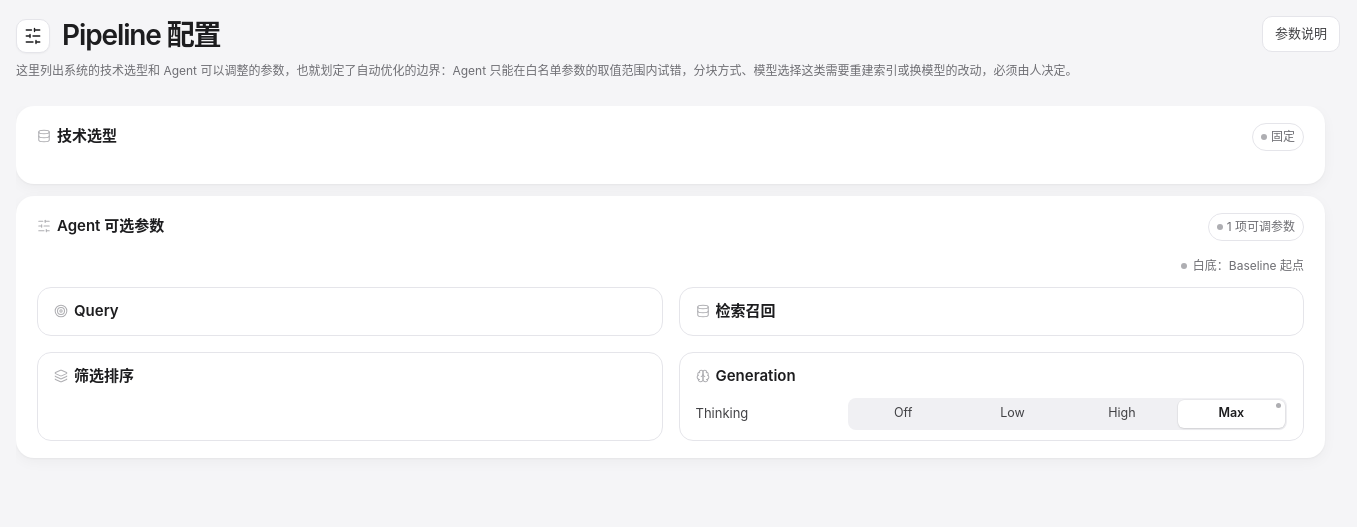
starts from saved Max Baseline without phantom changes (stale draft: false)
This screenshot has width=1357, height=527.
Expected: the radio button labelled "Max" is shown, [1178,400,1285,428]
Expected: the text "1 项已修改" is not shown
Click the radio button labelled "High".
click(1122, 414)  # box [1068,400,1176,428]
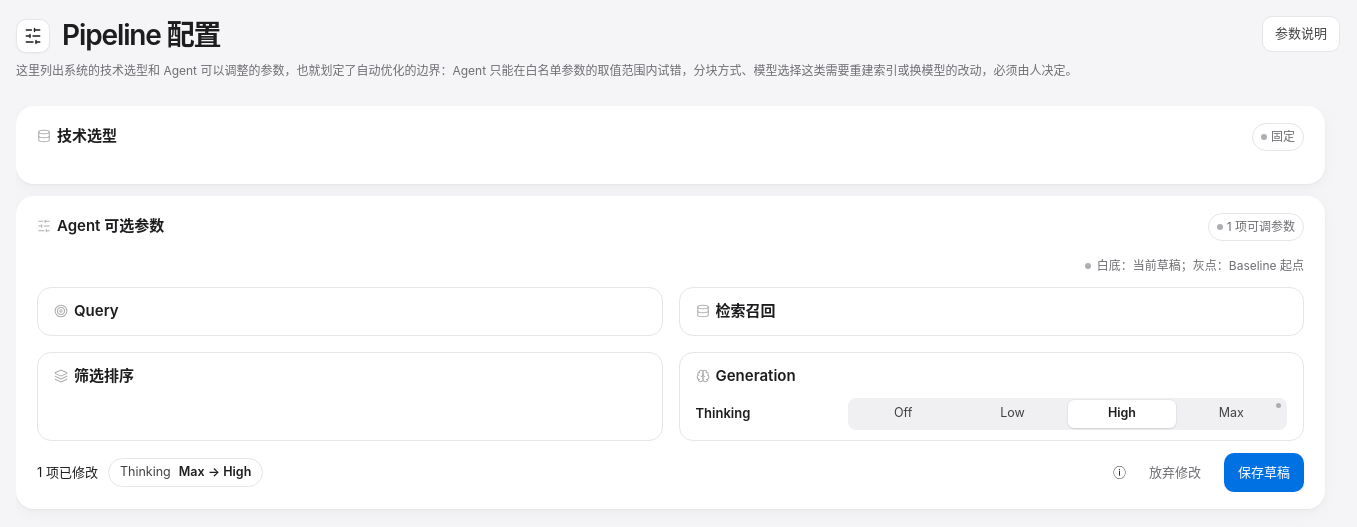
Now the text "1 项已修改" is shown, box [37,463,98,482]
Now the element showing "Thinking Max → High" is shown, box [108,458,263,487]
Click the button "放弃修改".
click(1175, 472)  # box [1136,454,1214,491]
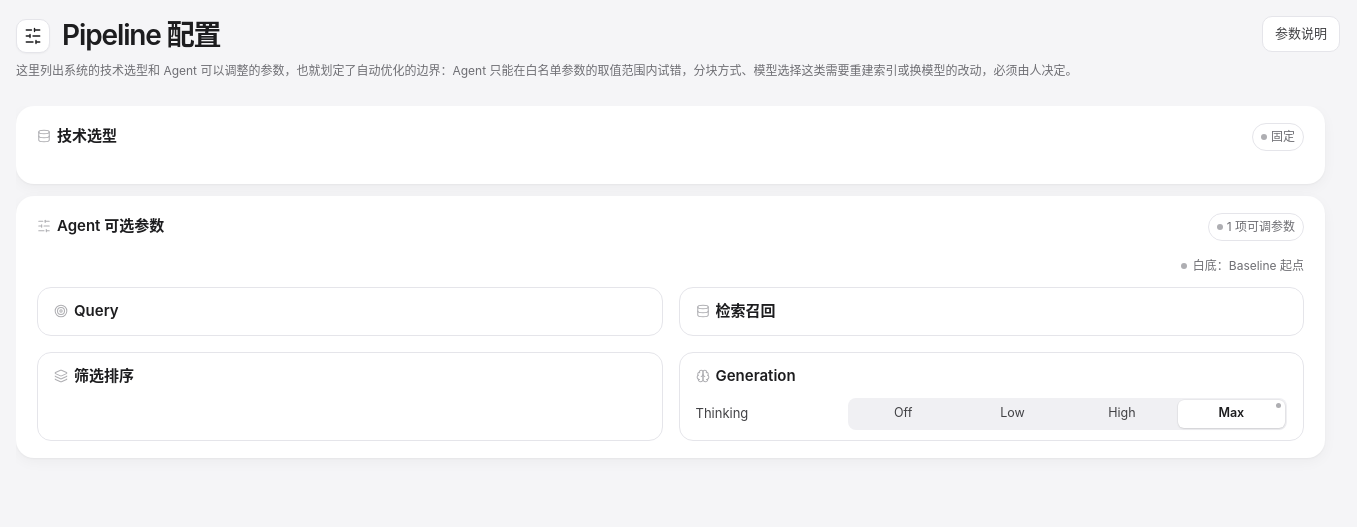
Expected: the radio button labelled "Max" is shown, [1178,400,1285,428]
Now the text "已修改" is gone
